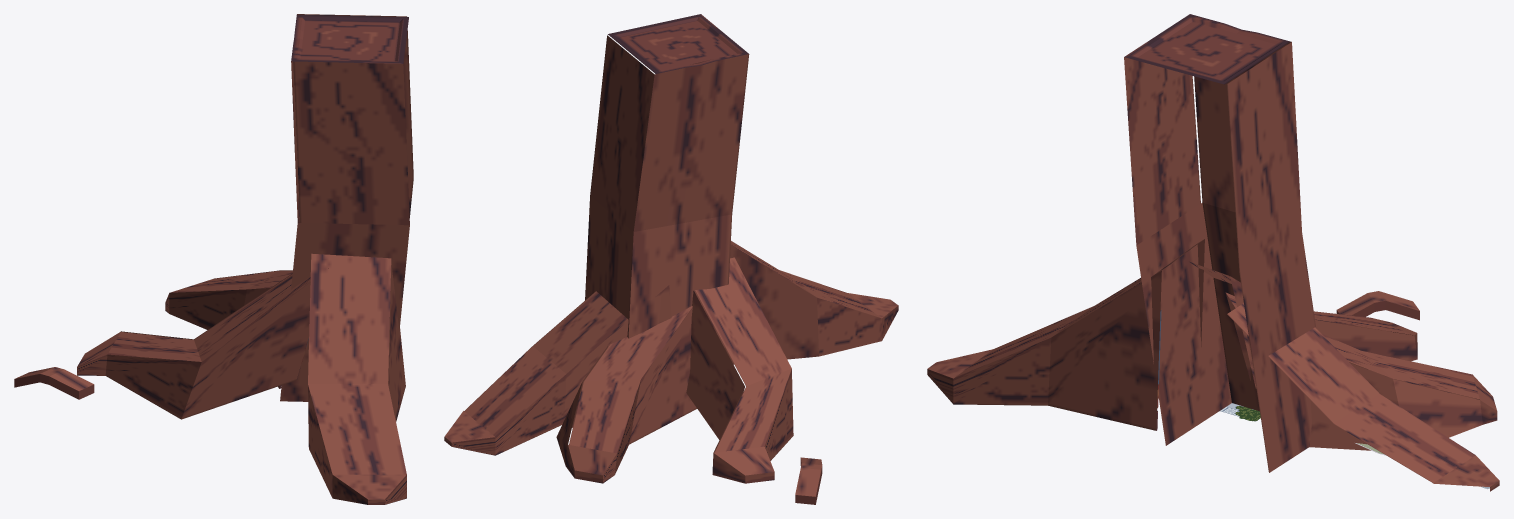
The model's file is ArvoreSemCopa.fbx.
3 renders of one model, left to right at view 1: azimuth 30°, elevation 25°; view 2: azimuth 150°, elevation 25°; view 3: azimuth 270°, elevation 25°, orthographic. The views are drawn at different scales.
Visible parts, largest first — view 1: Cube.004; view 2: Cube.004; view 3: Cube.004.
Part boxes in pixels (box(x1,y1,x2,y2)): Cube.004: box(14, 14, 413, 504); Cube.004: box(444, 14, 898, 504); Cube.004: box(927, 14, 1499, 491).
Bounding box in the file's own units: 636 × 802 × 604.
